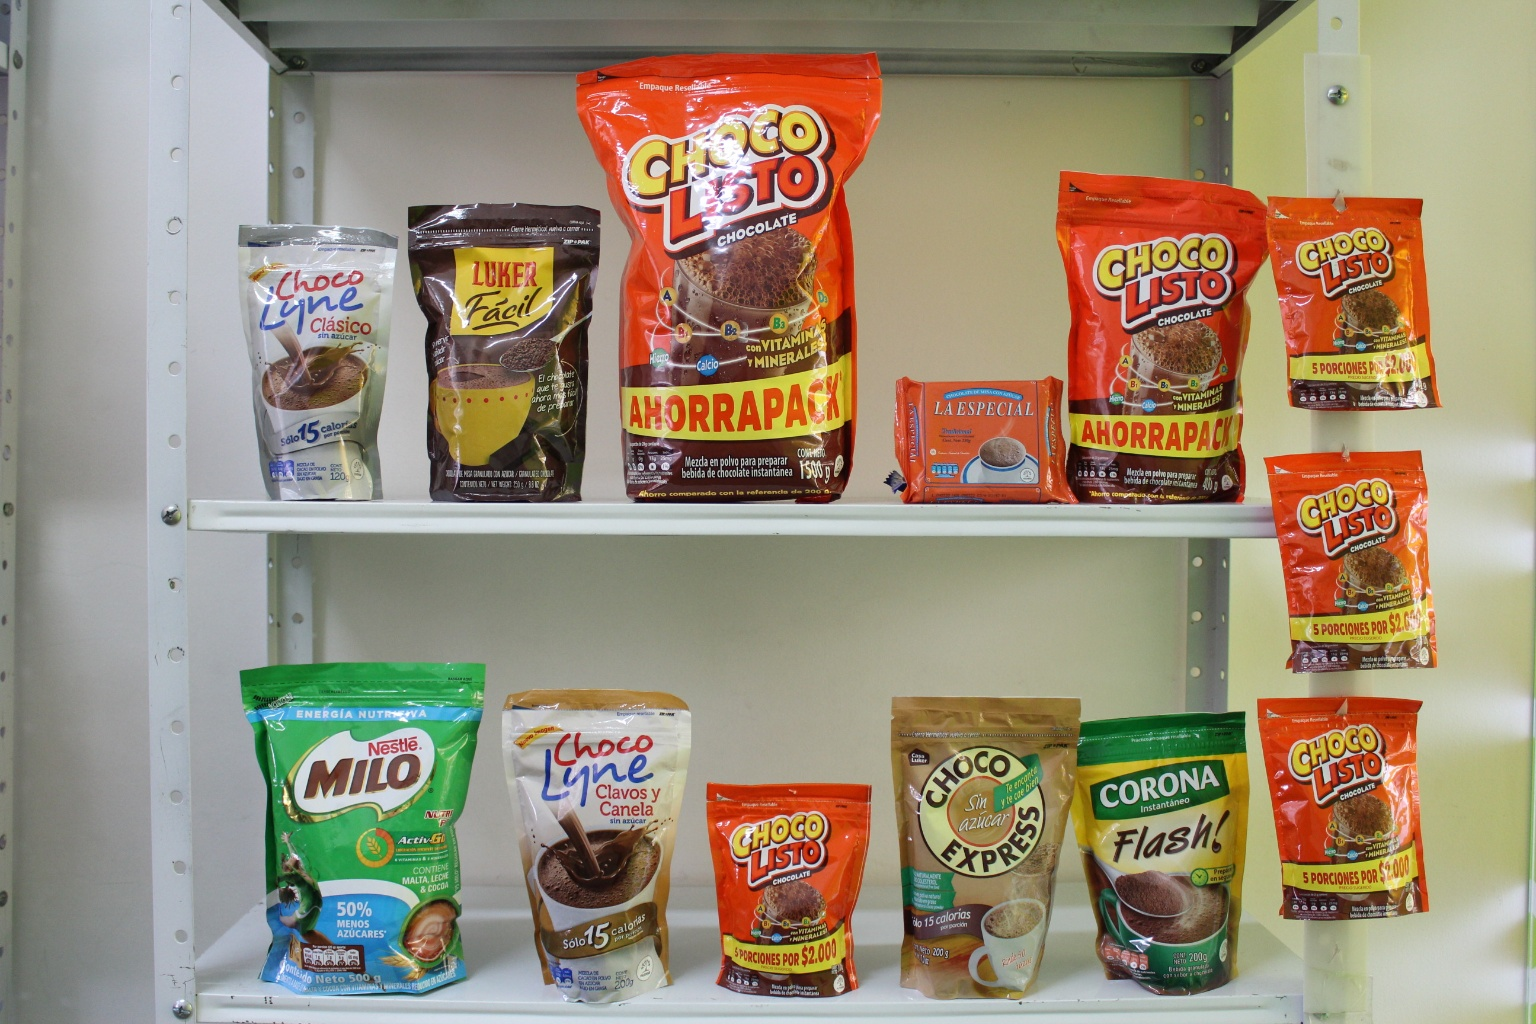COL0170103DYP1,500: (522, 2, 768, 435)
COL0170103DYP36000: (611, 584, 768, 969)
COL0170203LAT40000: (99, 233, 283, 419)
